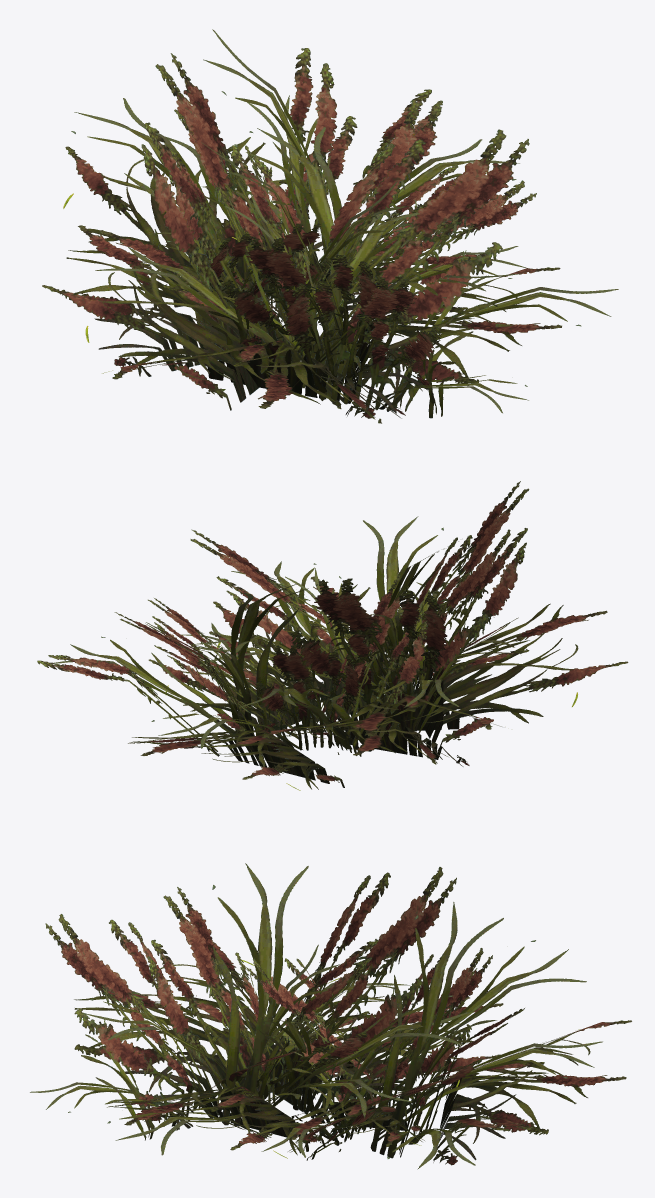
Rendered from 4007_Item_hua_4.FBX.
3 renders of one model, top to bottom at view 1: azimuth 30°, elevation 25°; view 2: azimuth 150°, elevation 25°; view 3: azimuth 270°, elevation 25°, orthographic. The views are drawn at different scales.
Parts seen in each view (by area): view 1: 4007_Item_hua_4; view 2: 4007_Item_hua_4; view 3: 4007_Item_hua_4.
Boxes of the visible parts, x1,y1,x2,y2 form: 4007_Item_hua_4: (42, 29, 618, 423); 4007_Item_hua_4: (37, 481, 628, 790); 4007_Item_hua_4: (30, 863, 631, 1169).
Bounding box in the file's own units: 21714 × 9575 × 22767.
